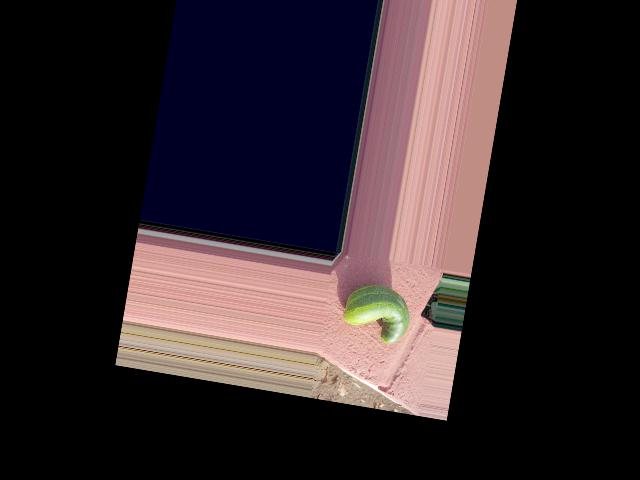cucumber: (339, 280, 413, 347)
